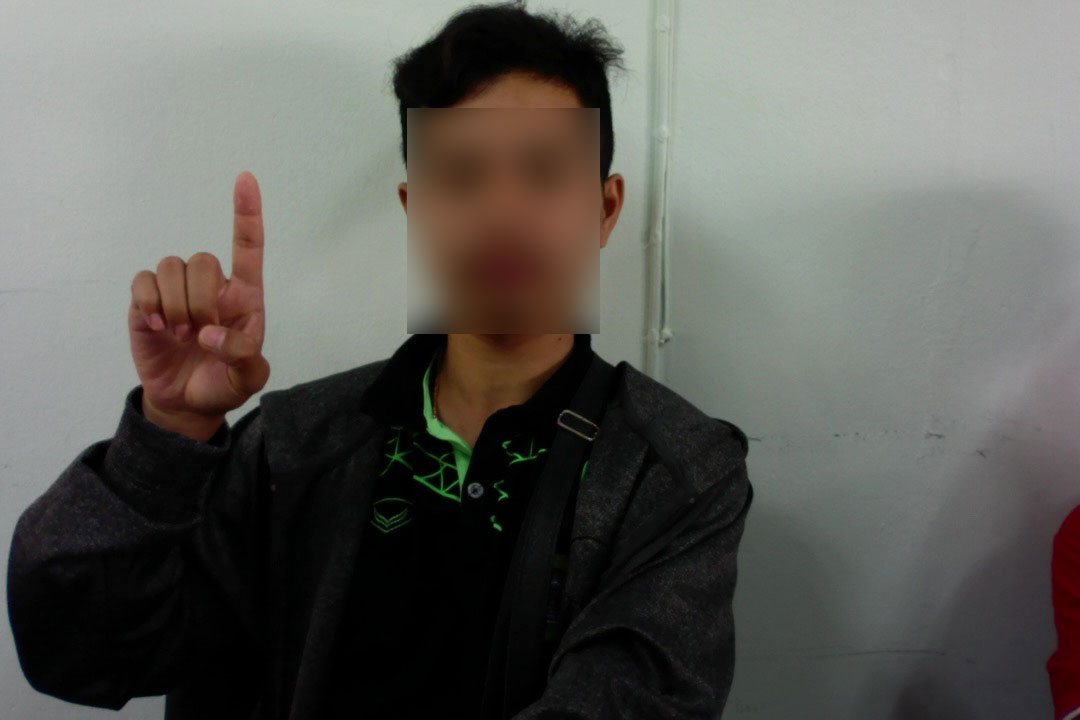dor: (112, 159, 285, 426)
